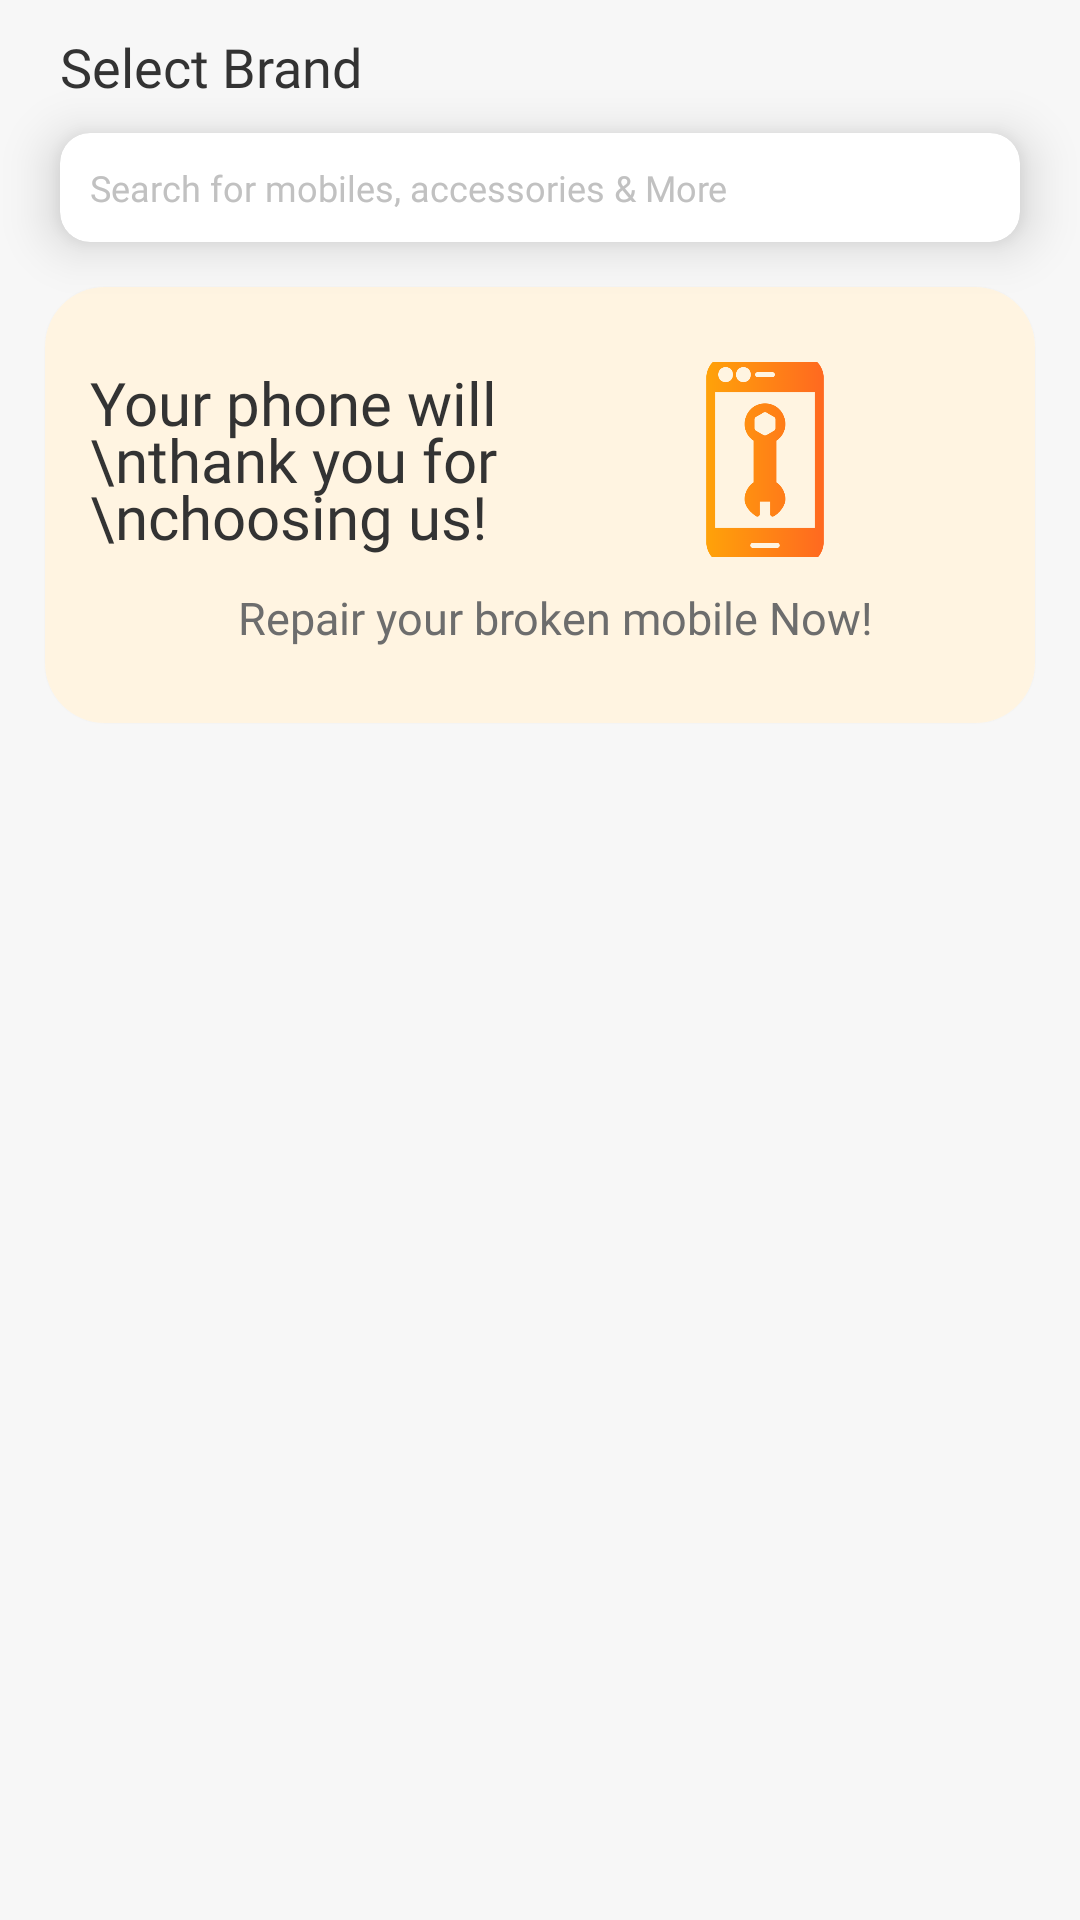

Icons on this 1080 x 1920 Android screen, each with its box as {"x1": x1, "y1": y1, "x2": x2, "y2": y2}:
repair service: {"x1": 706, "y1": 362, "x2": 824, "y2": 557}
